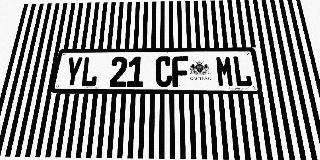1: (126, 56, 144, 87)
2: (109, 57, 128, 87)
C: (155, 56, 172, 87)
F: (172, 56, 189, 87)
L: (232, 56, 253, 87), (80, 57, 99, 87)
M: (215, 56, 235, 87)
Y: (63, 57, 83, 87)
